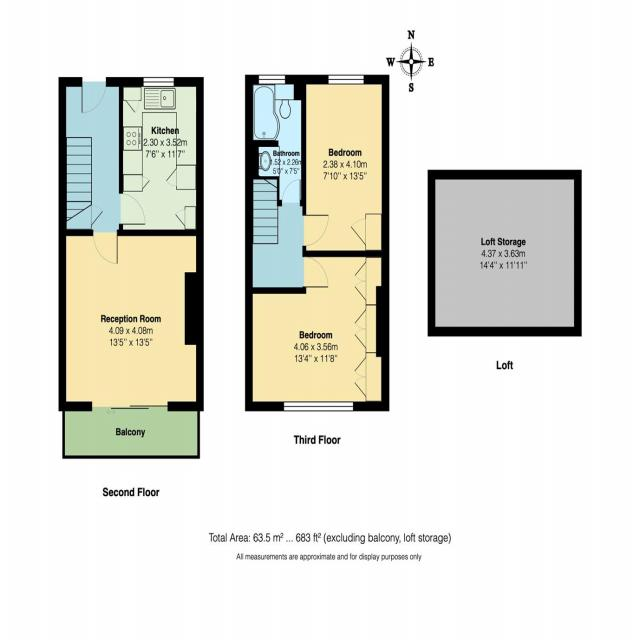DOOR: (81, 76, 107, 115), (118, 192, 146, 226), (92, 229, 118, 265), (302, 214, 330, 247), (302, 256, 329, 288), (281, 178, 301, 207)
ROOM: (58, 228, 204, 412), (245, 250, 390, 412), (293, 74, 390, 258), (119, 77, 204, 237)
WINDOW: (284, 401, 354, 412), (328, 74, 365, 85), (143, 76, 175, 88), (258, 74, 286, 85)
